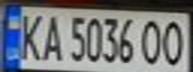0: (84, 14, 103, 63)
3: (103, 13, 121, 64)
5: (63, 12, 87, 63)
6: (118, 16, 139, 65)
A: (39, 10, 66, 62)
K: (15, 10, 45, 62)
O: (157, 17, 190, 68), (136, 16, 166, 66)
